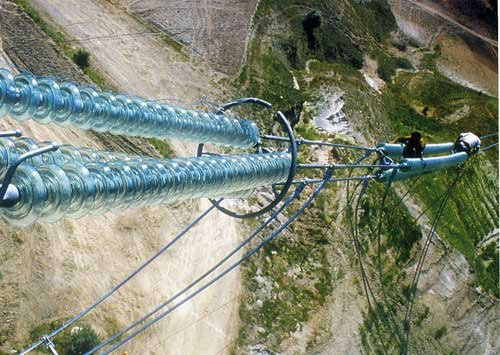isolator: (1, 67, 295, 226), (376, 141, 469, 183)
